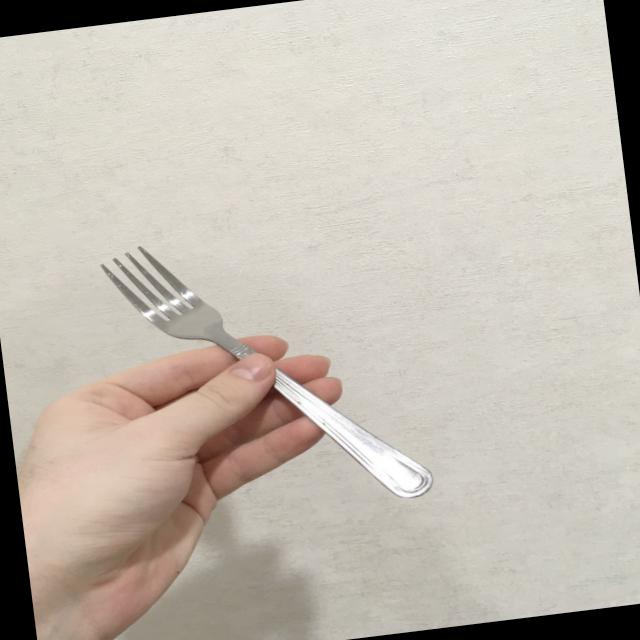fork: (96, 212, 434, 532)
